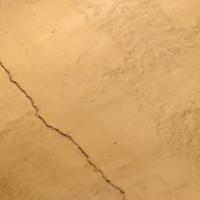crack: (0, 42, 139, 199)
